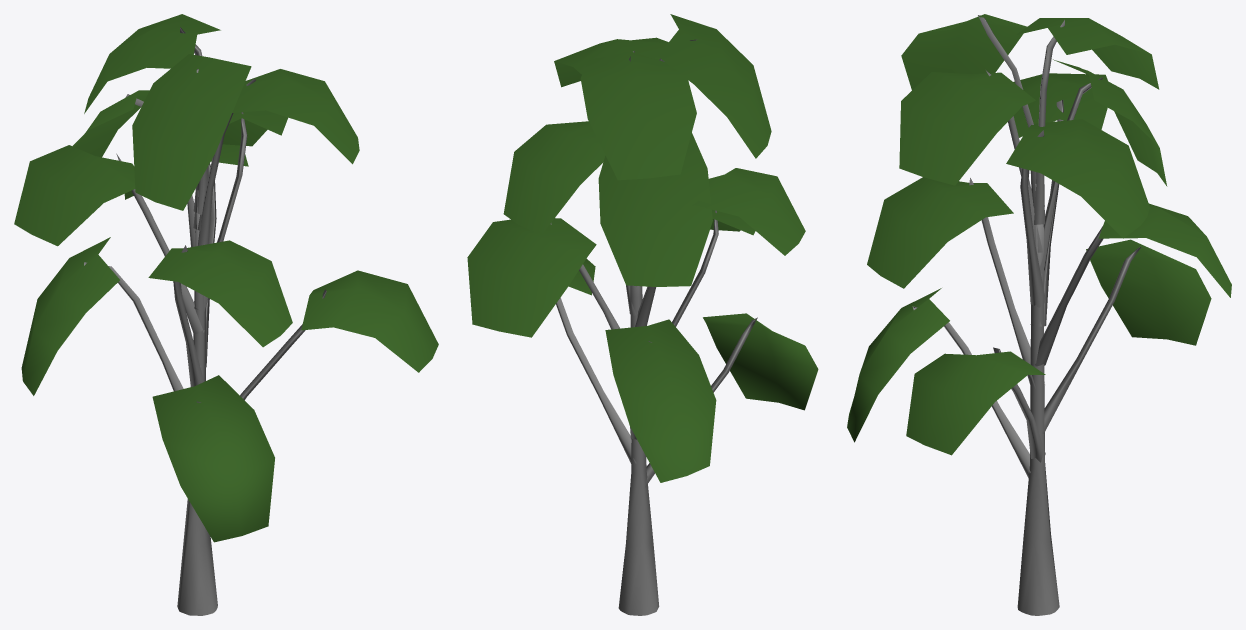
The model's file is SM_plant_tropical_small_01.fbx.
3 views of the same model, side by side, from view 1: azimuth 30°, elevation 25°; view 2: azimuth 150°, elevation 25°; view 3: azimuth 270°, elevation 25° (orthographic). The views are drawn at different scales.
Parts seen in each view (by area): view 1: tree016; view 2: tree016; view 3: tree016.
Part boxes in pixels (left/top/right/bottom): tree016: left=14, top=14, right=438, bottom=615; tree016: left=467, top=14, right=818, bottom=615; tree016: left=847, top=14, right=1231, bottom=615.
Bounding box in the file's own units: 18.85 × 28.27 × 16.84.
